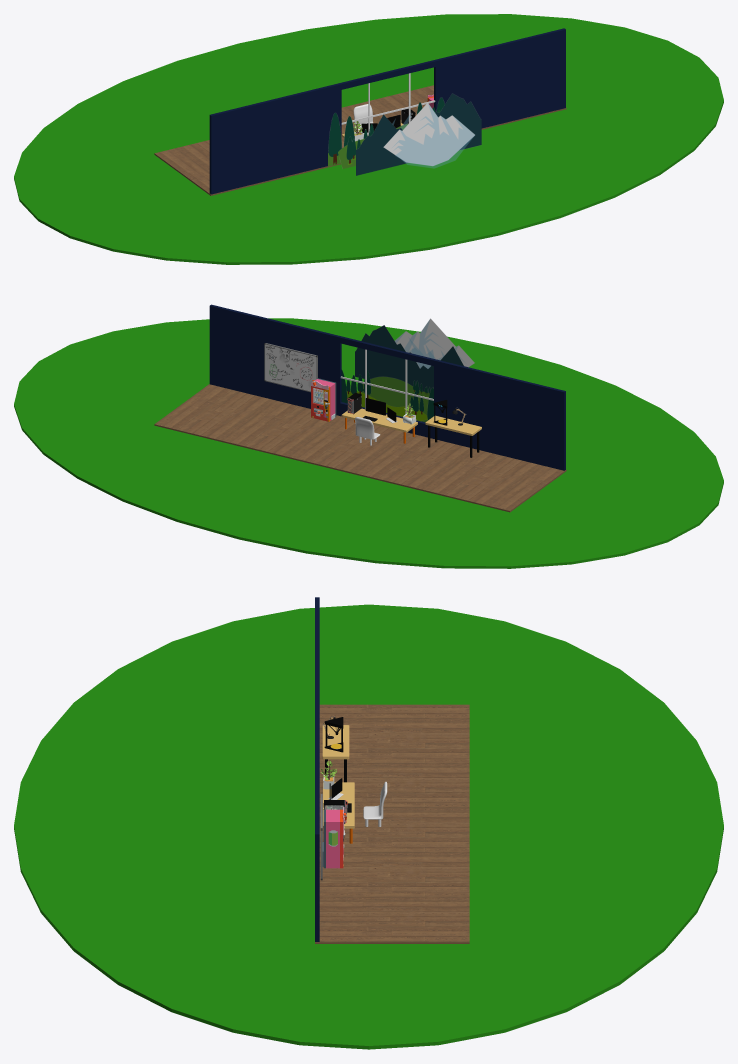
The picture shows the model from 3 angles, top to bottom: view 1: azimuth 30°, elevation 25°; view 2: azimuth 150°, elevation 25°; view 3: azimuth 270°, elevation 25°; orthographic projection. The views are drawn at different scales.
Parts seen in each view (by area): view 1: Circle, Plane, Cube.009, mountain1, mountain2, pradera3, pradera1; view 2: Circle, Cube.009, Plane, mountain2, Whiteboard, mountain1, pradera1, group1848869498, pradera2, Cube, Cube.003; view 3: Circle, Cube.009, Plane, group1848869498, Cube.003.
Boxes of the visible parts, <box> form: Circle: <box>14,14,723,264</box>; Plane: <box>209,28,565,194</box>; Cube.009: <box>154,85,566,195</box>; mountain1: <box>383,103,474,168</box>; mountain2: <box>356,93,481,175</box>; pradera3: <box>328,97,444,166</box>; pradera1: <box>338,123,408,168</box>; Circle: <box>14,318,723,568</box>; Cube.009: <box>154,384,566,512</box>; Plane: <box>209,304,565,470</box>; mountain2: <box>355,325,463,392</box>; Whiteboard: <box>264,343,317,392</box>; mountain1: <box>395,318,474,368</box>; pradera1: <box>361,376,433,415</box>; group1848869498: <box>311,378,336,421</box>; pradera2: <box>346,370,427,421</box>; Cube: <box>341,408,417,432</box>; Cube.003: <box>425,415,481,435</box>; Circle: <box>14,604,723,1049</box>; Cube.009: <box>315,704,469,943</box>; Plane: <box>315,597,319,941</box>; group1848869498: <box>322,807,346,868</box>; Cube.003: <box>322,725,349,759</box>.
Bounding box in the file's own units: 44.16 × 6.48 × 30.01.
Materials: 68 (7 with a texture image).
